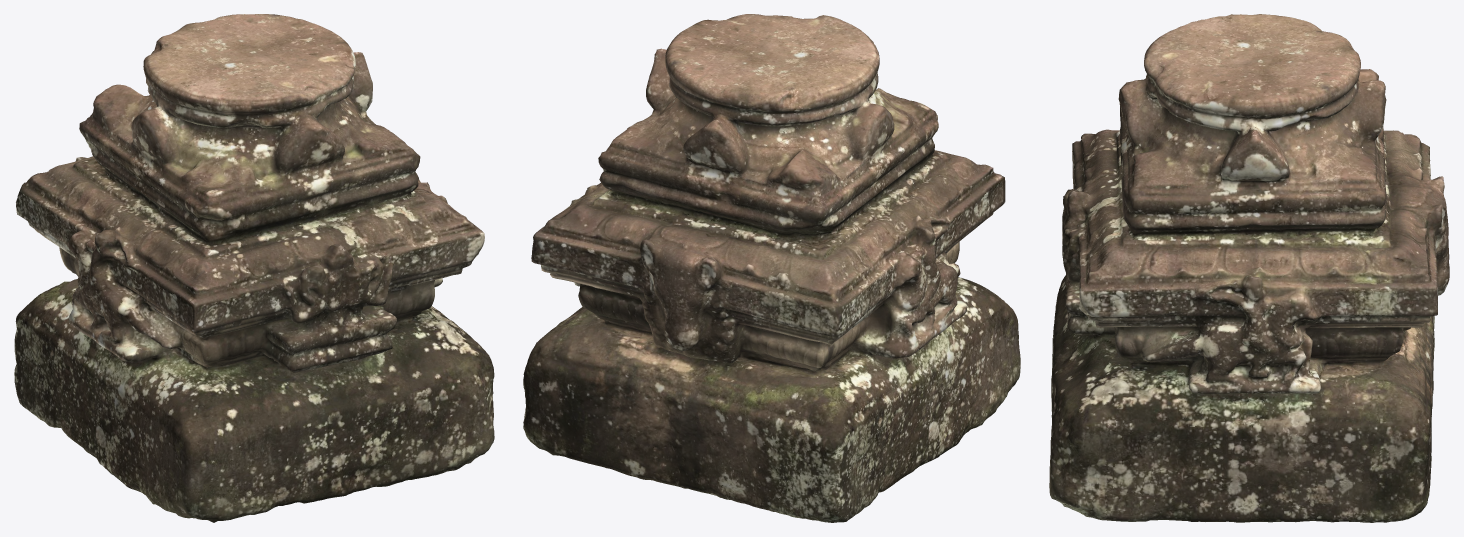
Rendered from 55_MysonSanctuaryD_Thanhphantrangtri_final.glb.
3 renders of one model, left to right at view 1: azimuth 30°, elevation 25°; view 2: azimuth 150°, elevation 25°; view 3: azimuth 270°, elevation 25°, orthographic. The views are drawn at different scales.
Bounding box in the file's own units: 1.1 × 1.2 × 1.13.
Materials: 1 (1 with a texture image).
